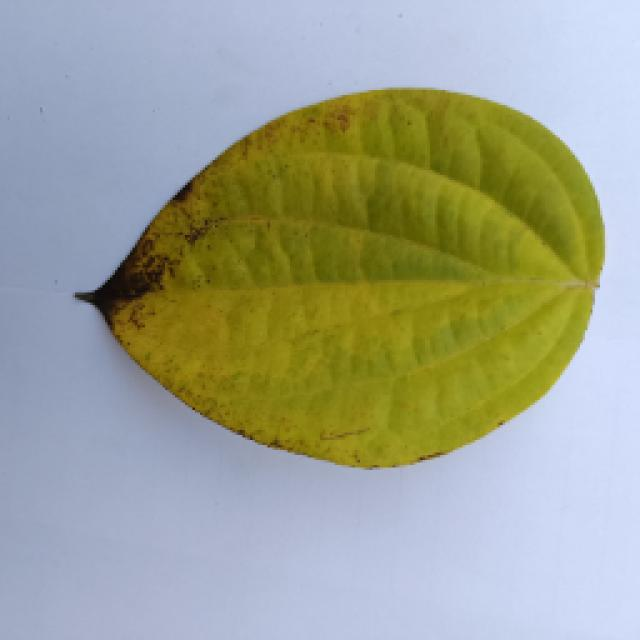slow-decline: (43, 82, 605, 470)
